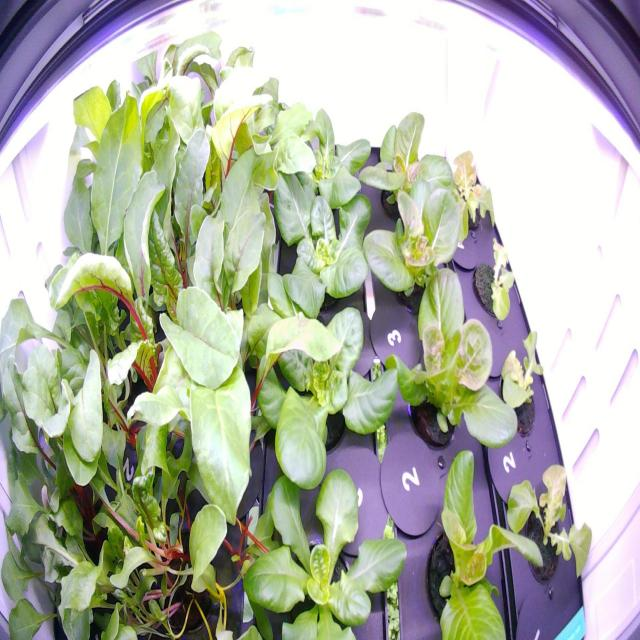young: (216, 261, 410, 499), (224, 442, 417, 639), (374, 238, 526, 477), (407, 420, 551, 640), (258, 154, 379, 334), (359, 157, 483, 320), (355, 94, 471, 246), (500, 449, 595, 596), (272, 91, 376, 224), (493, 317, 552, 442), (437, 146, 500, 235), (470, 231, 525, 325)
